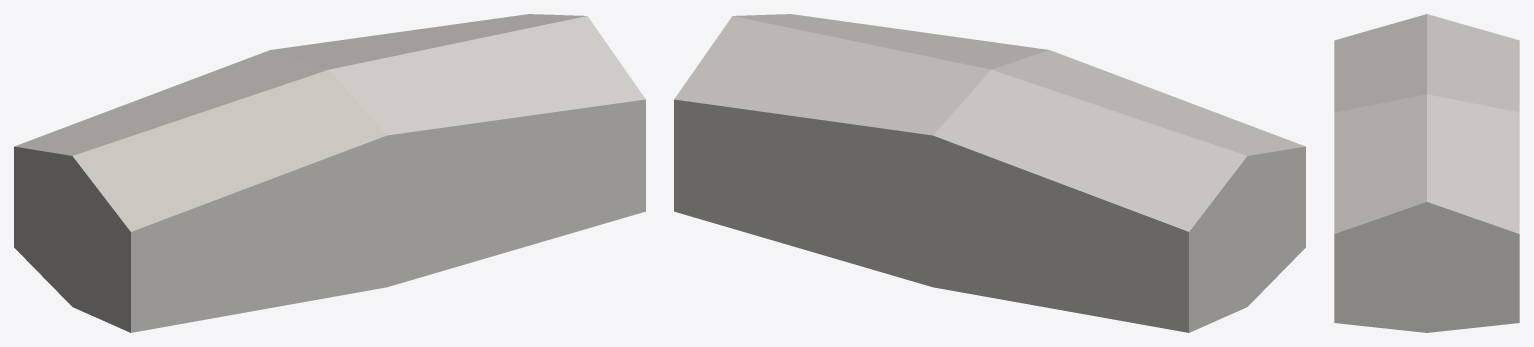
Rendered from niguiriBase.fbx.
3 views of the same model, side by side, from view 1: azimuth 30°, elevation 25°; view 2: azimuth 150°, elevation 25°; view 3: azimuth 270°, elevation 25° (orthographic). The views are drawn at different scales.
Visible parts, largest first — view 1: niguiriBase; view 2: niguiriBase; view 3: niguiriBase.
Part boxes in pixels (bbox=[...]): niguiriBase: bbox=[14, 14, 645, 332]; niguiriBase: bbox=[674, 14, 1305, 332]; niguiriBase: bbox=[1334, 14, 1519, 332].
Size of the model in its own units: 12.33 by 4 by 4.84.
1 material, 1 textured.
